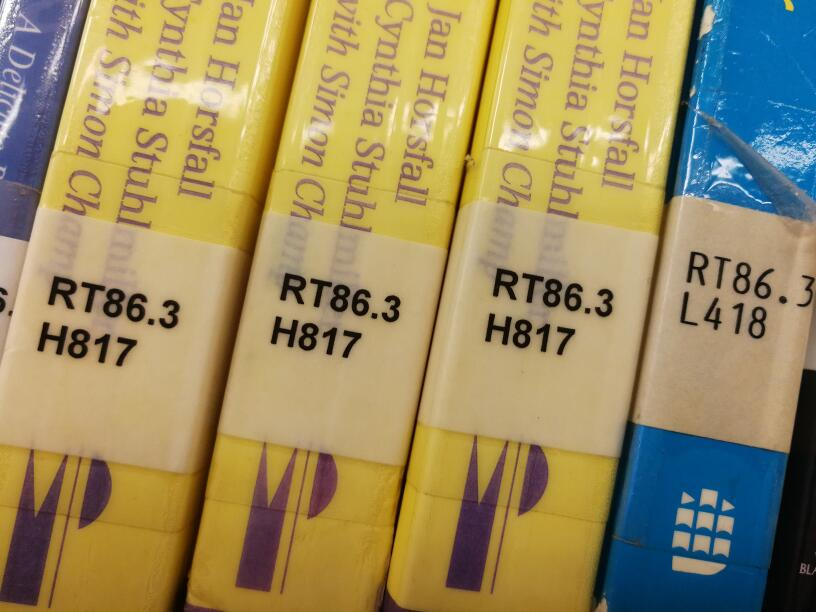booklabel: (31, 270, 183, 370), (675, 247, 815, 341), (266, 269, 403, 361), (480, 264, 615, 356)
